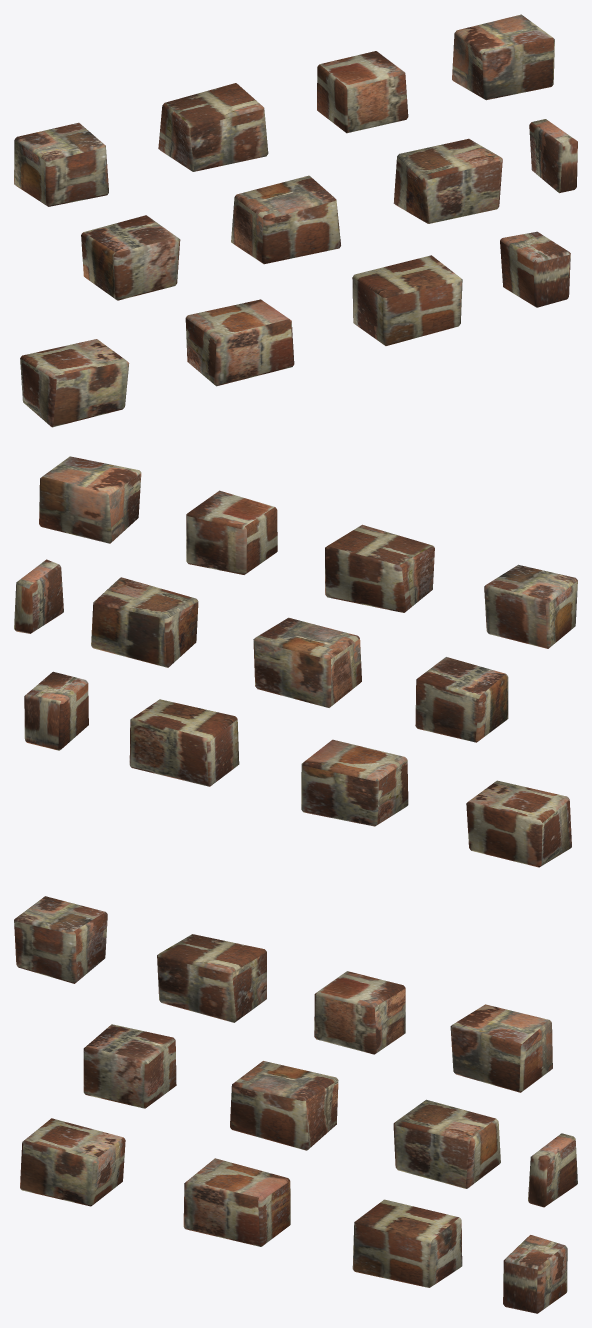
Rendered from stone_wall.fbx.
The picture shows the model from 3 angles, top to bottom: view 1: azimuth 30°, elevation 25°; view 2: azimuth 150°, elevation 25°; view 3: azimuth 330°, elevation 25°; orthographic projection.
Visible parts, largest first — view 1: stone_wall; view 2: stone_wall; view 3: stone_wall.
Boxes of the visible parts, x1,y1,x2,y2 form: stone_wall: (14, 14, 577, 427); stone_wall: (14, 456, 577, 867); stone_wall: (14, 896, 577, 1313).
Size of the model in its own units: 0.9674 by 0.4699 by 0.1052.
1 material, 1 textured.
